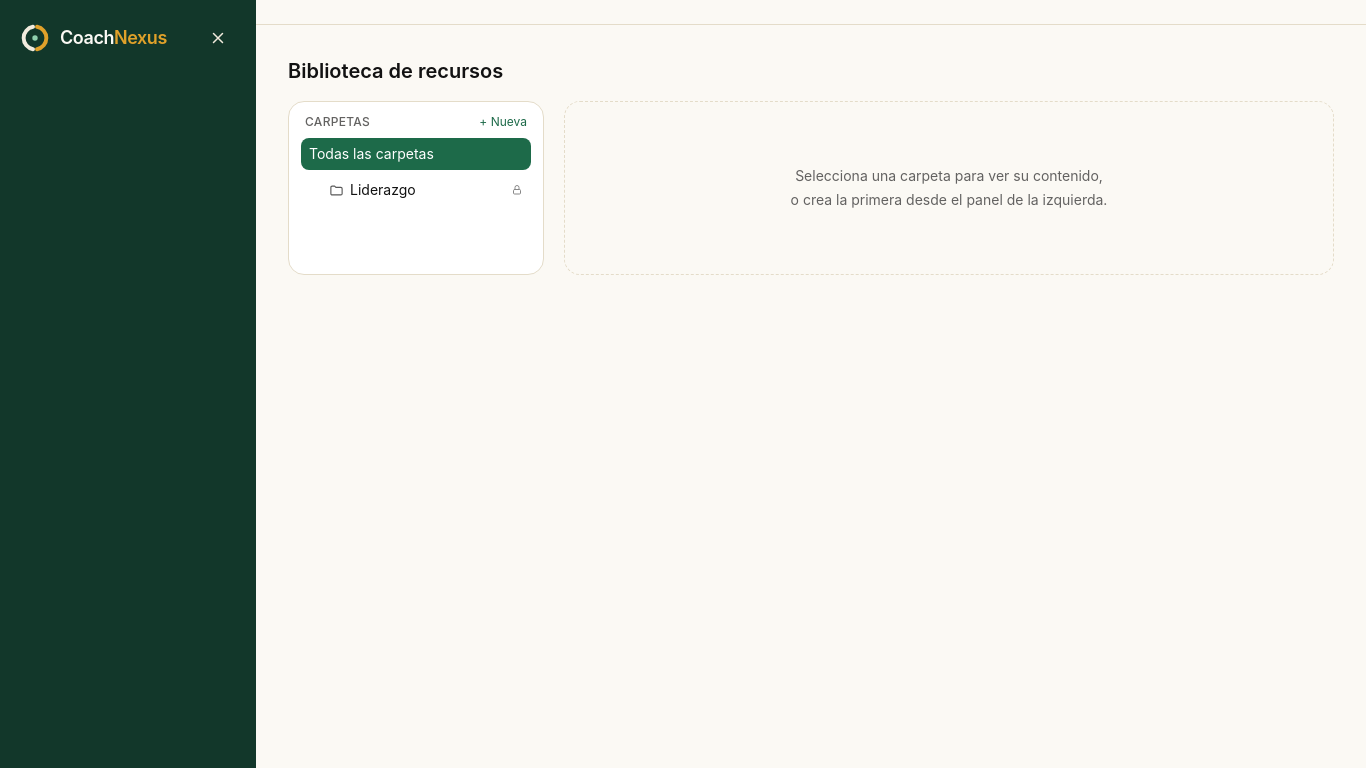
Scenario: RecursosView › opens the access modal for a resource and lists coachees to share with
Click the element showing "Liderazgo" at (383, 190), box x1=329 y1=181 x2=523 y2=198
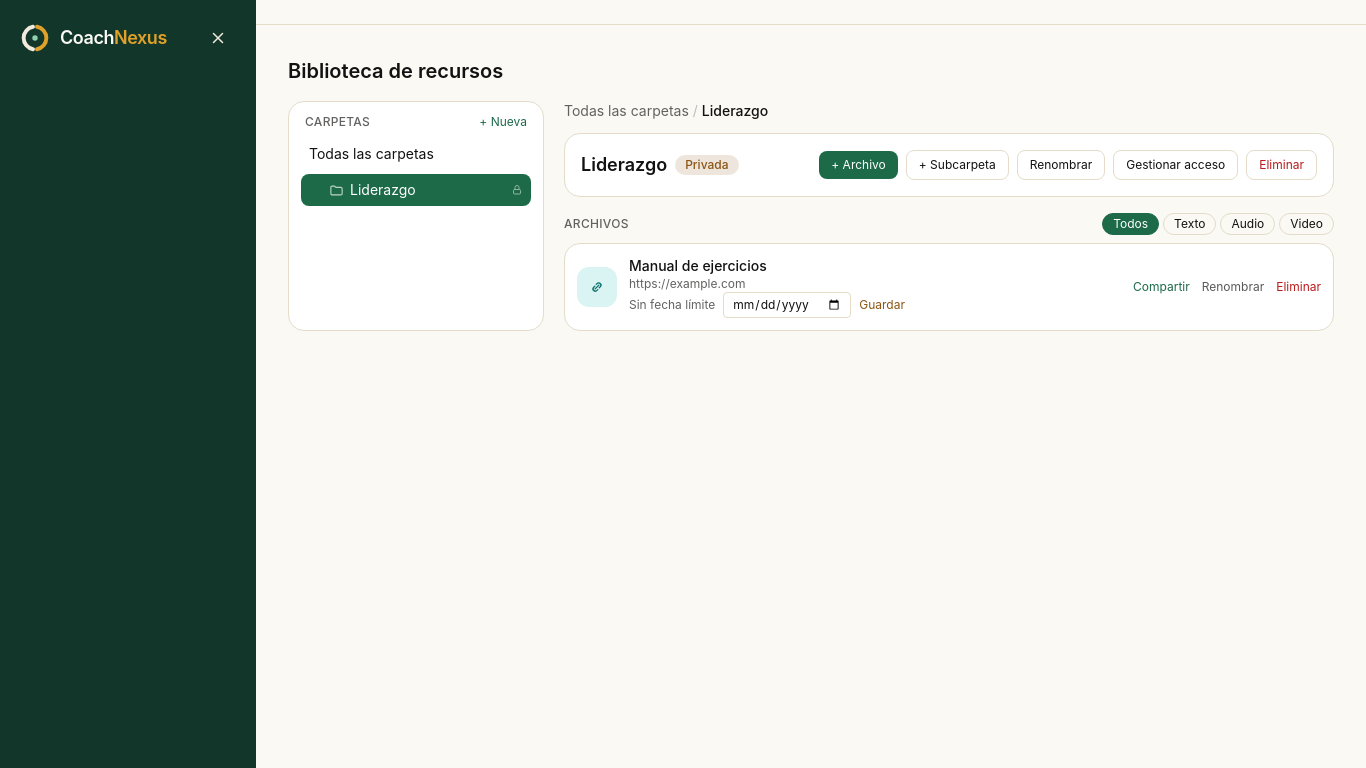
Click the button "Compartir" at (1161, 287), box x1=1133 y1=279 x2=1190 y2=295
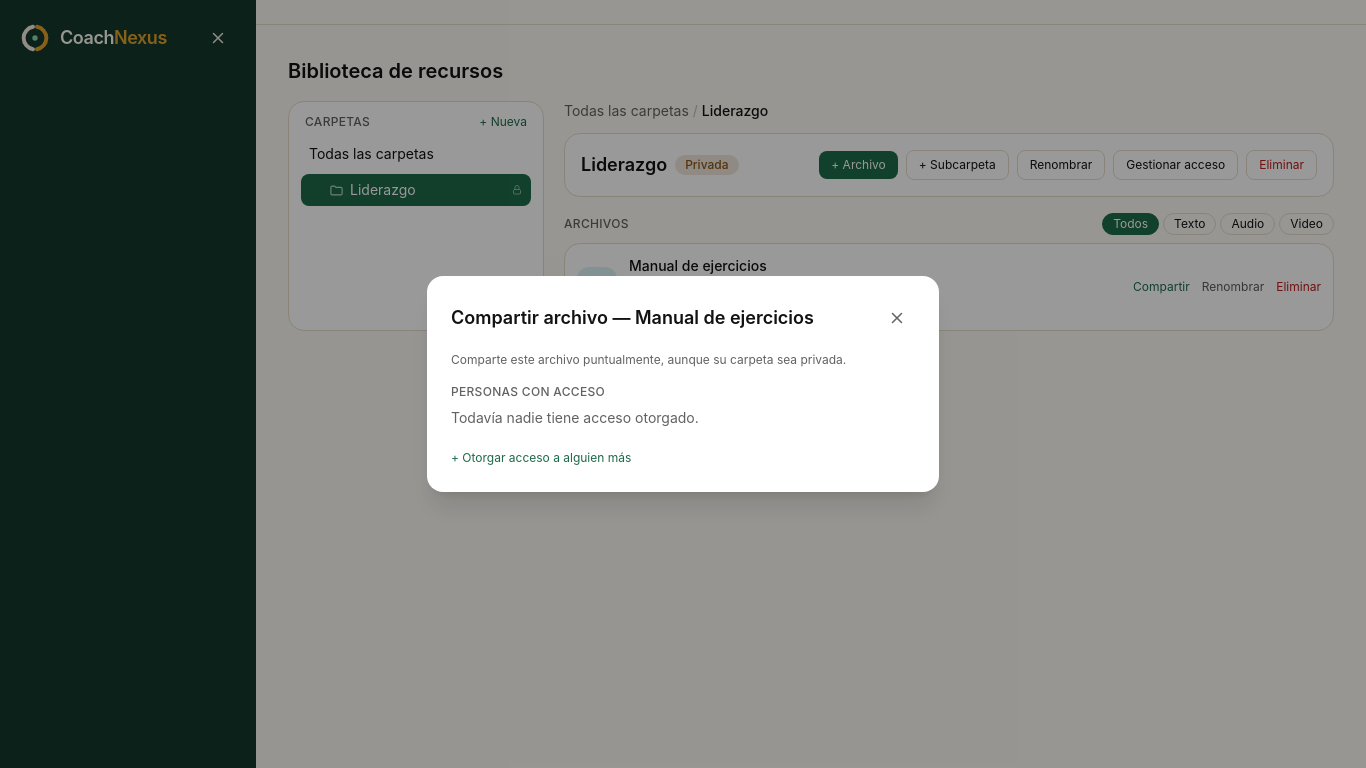
Expected: the text "Todavía nadie tiene acceso otorgado" is shown, x1=451 y1=409 x2=699 y2=426
Click the button "+ Otorgar acceso a alguien más" at (541, 458), box x1=451 y1=450 x2=631 y2=466
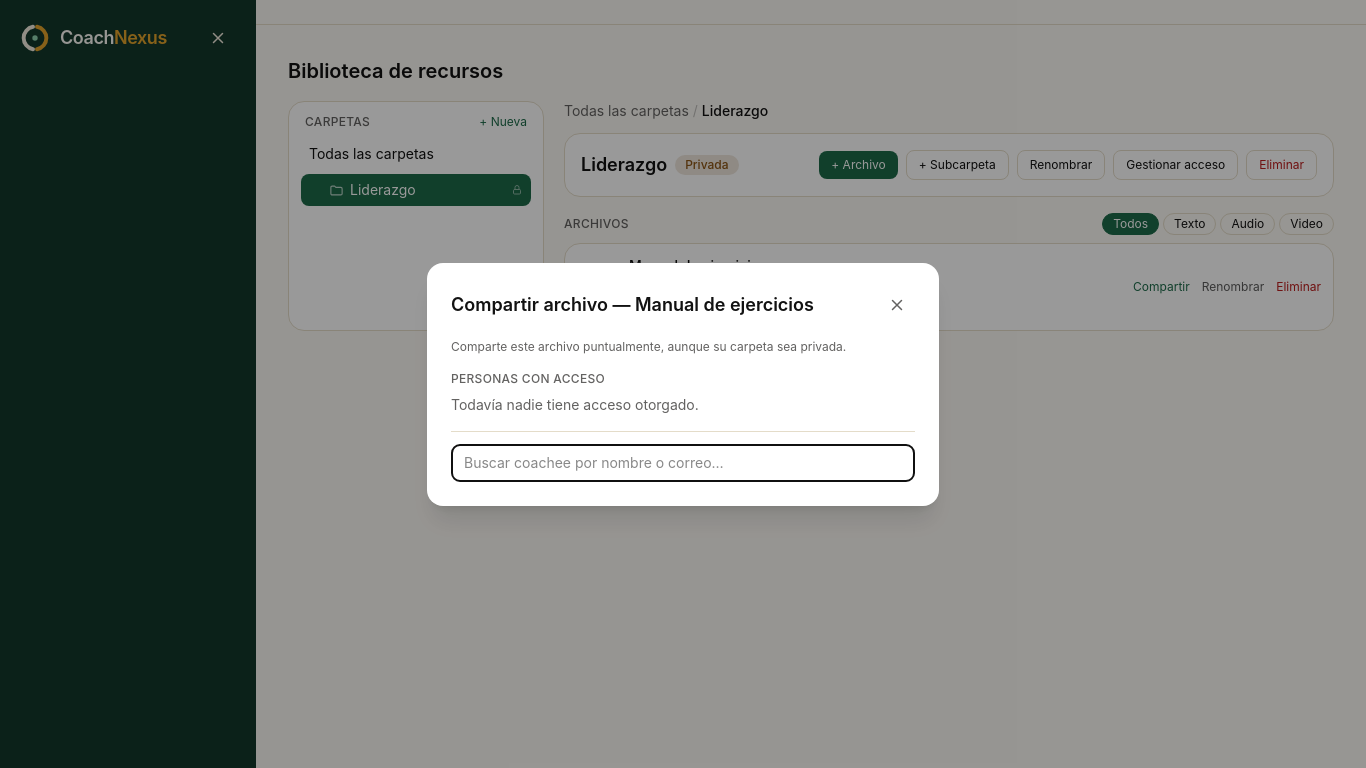
Expected: the text "Coachee Uno" is not shown
Type "Coachee" into the field with placeholder "Buscar coachee por nombre o correo…" at (683, 462), box x1=451 y1=444 x2=915 y2=482
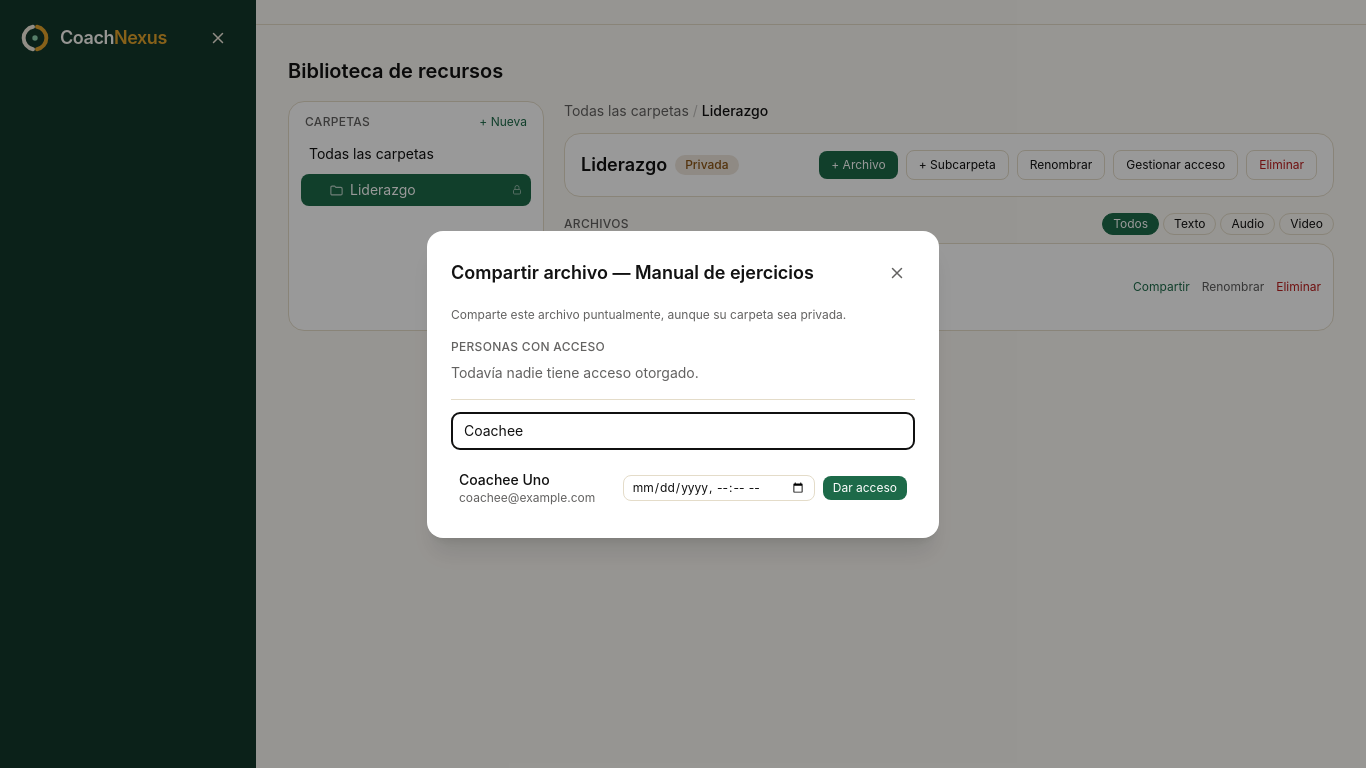
Expected: the text "Coachee Uno" is shown, x1=459 y1=470 x2=550 y2=488
Expected: the text "Dar acceso" is shown, x1=823 y1=476 x2=907 y2=500
